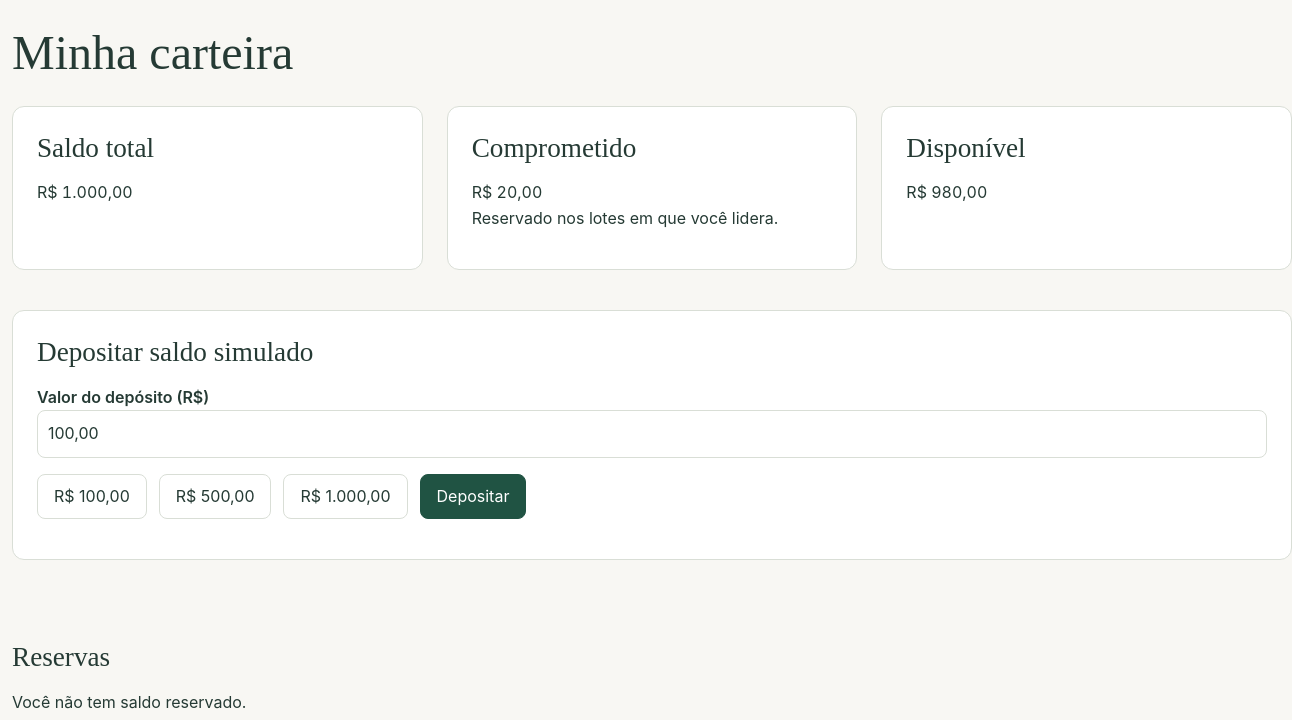
it: mostra saldos, deposita centavos e consulta o saldo atual em vez do replay
The width and height of the screenshot is (1292, 720).
Expected: the text "R$ 1.000,00" is shown, [37,182,133,202]
Expected: the text "R$ 20,00" is shown, [472,182,542,202]
Click the button "Depositar". click: (473, 496)
box: [420,474,526,519]
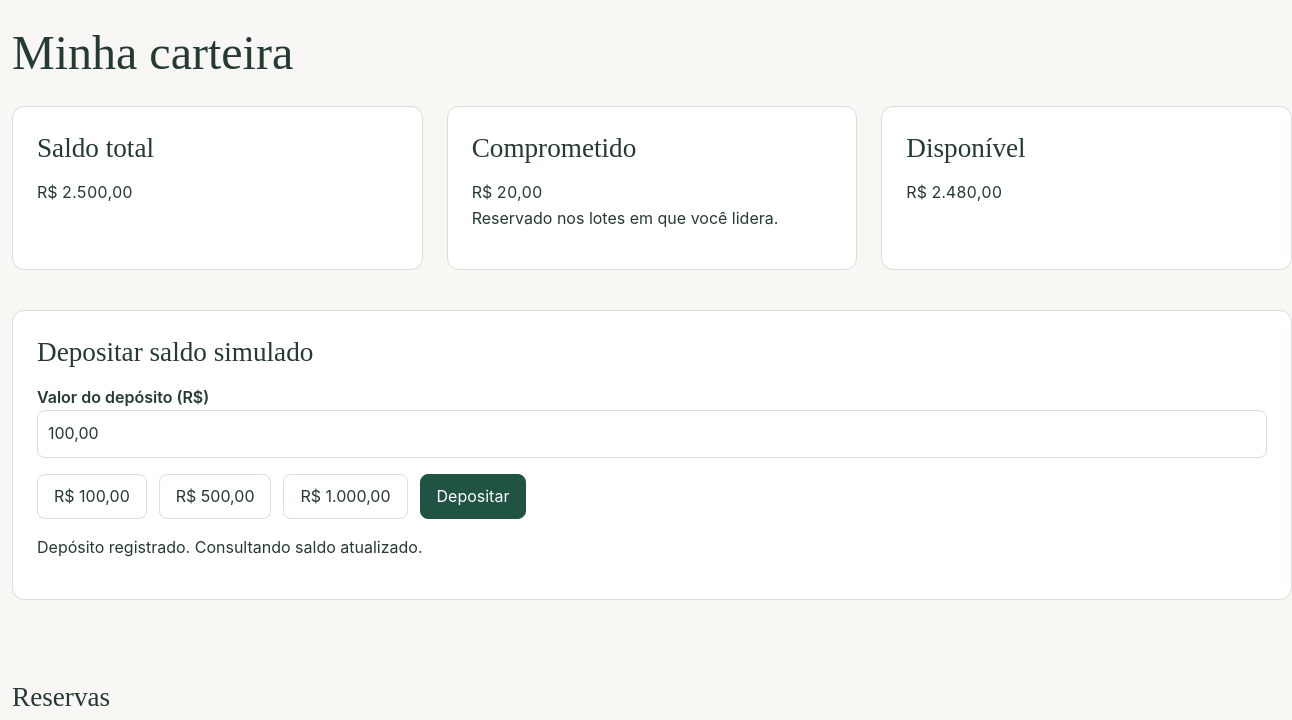
Now the text "R$ 2.500,00" is shown, box [37,182,133,202]
